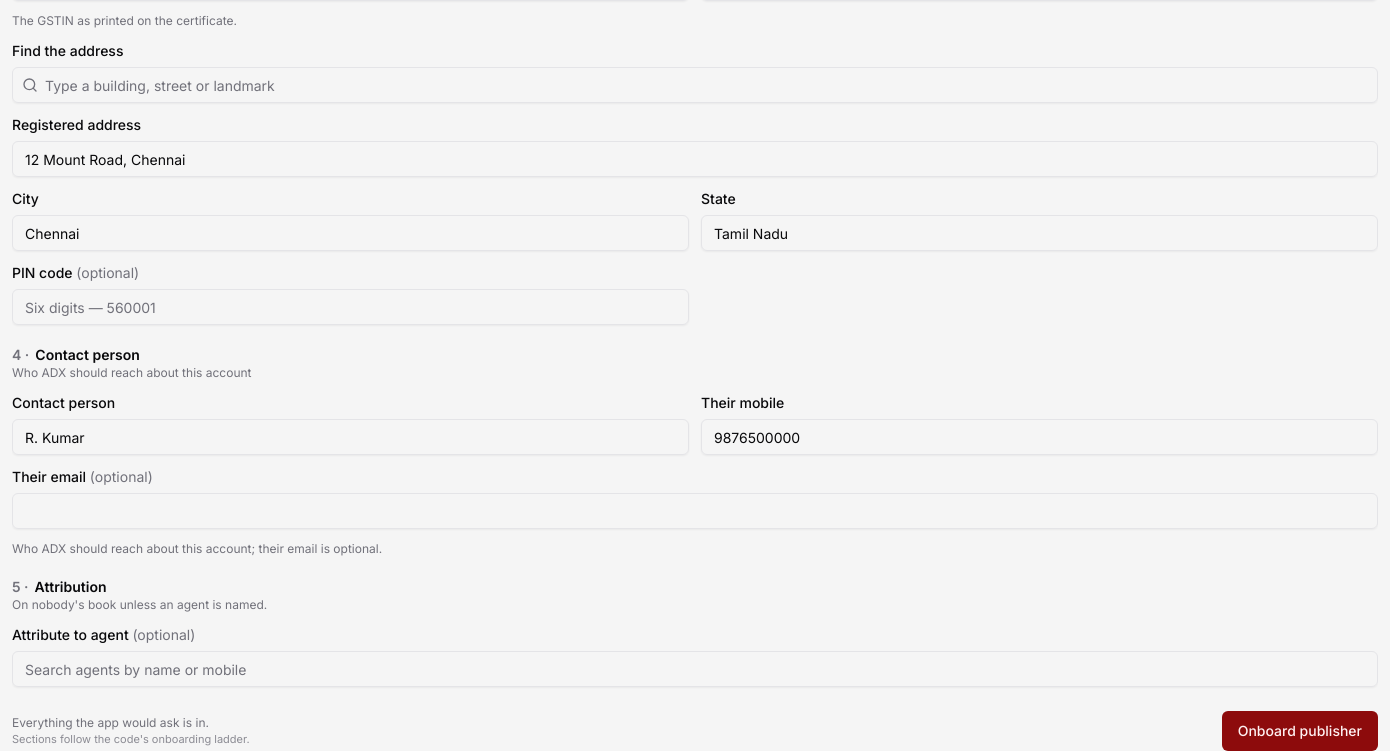
Scenario: create › shows a server refusal on the field it names
(page scrolled)
Click the button with test id "pf-submit" at (1300, 731), box [1222,711,1378,750]
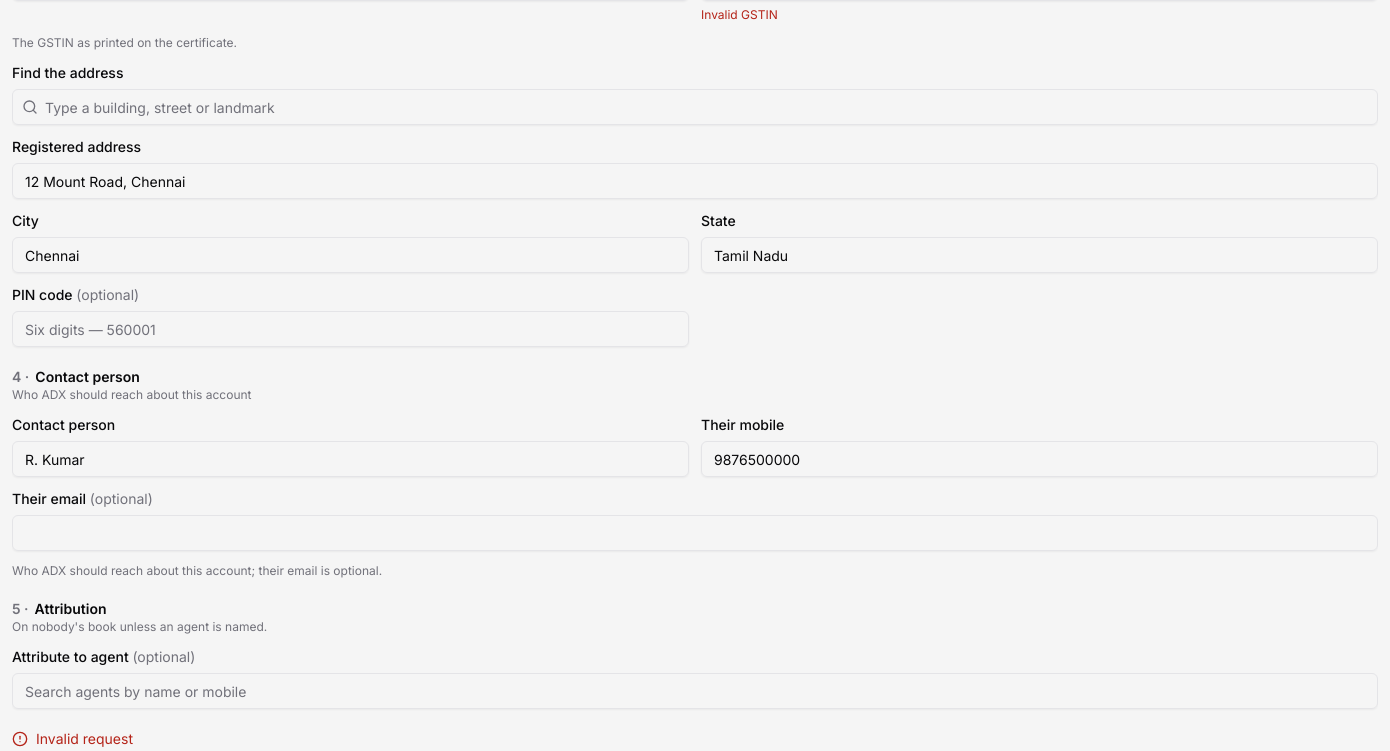
Result: the message "Invalid GSTIN" is shown at [701,7,778,22]
